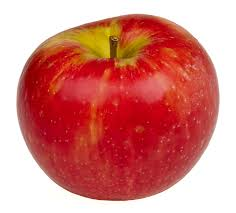apple: (16, 18, 217, 201)
